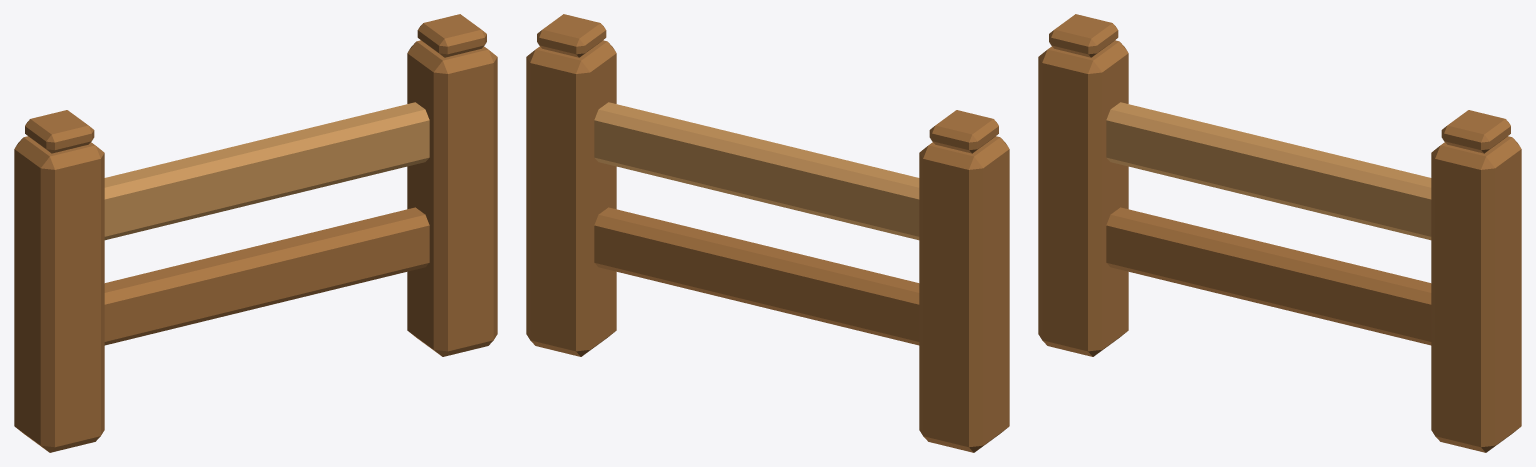
File: low_wood_fence_1m.glb
3 views of the same model, side by side, from view 1: azimuth 30°, elevation 25°; view 2: azimuth 150°, elevation 25°; view 3: azimuth 330°, elevation 25° (orthographic).
Parts seen in each view (by area): view 1: low_wood_fence_1m; view 2: low_wood_fence_1m; view 3: low_wood_fence_1m.
Part boxes in pixels (x1,y1,x2,y2): low_wood_fence_1m: (14,14,497,452); low_wood_fence_1m: (526,14,1009,452); low_wood_fence_1m: (1038,14,1521,452).
Size of the model in its own units: 1 by 0.66 by 0.14.
